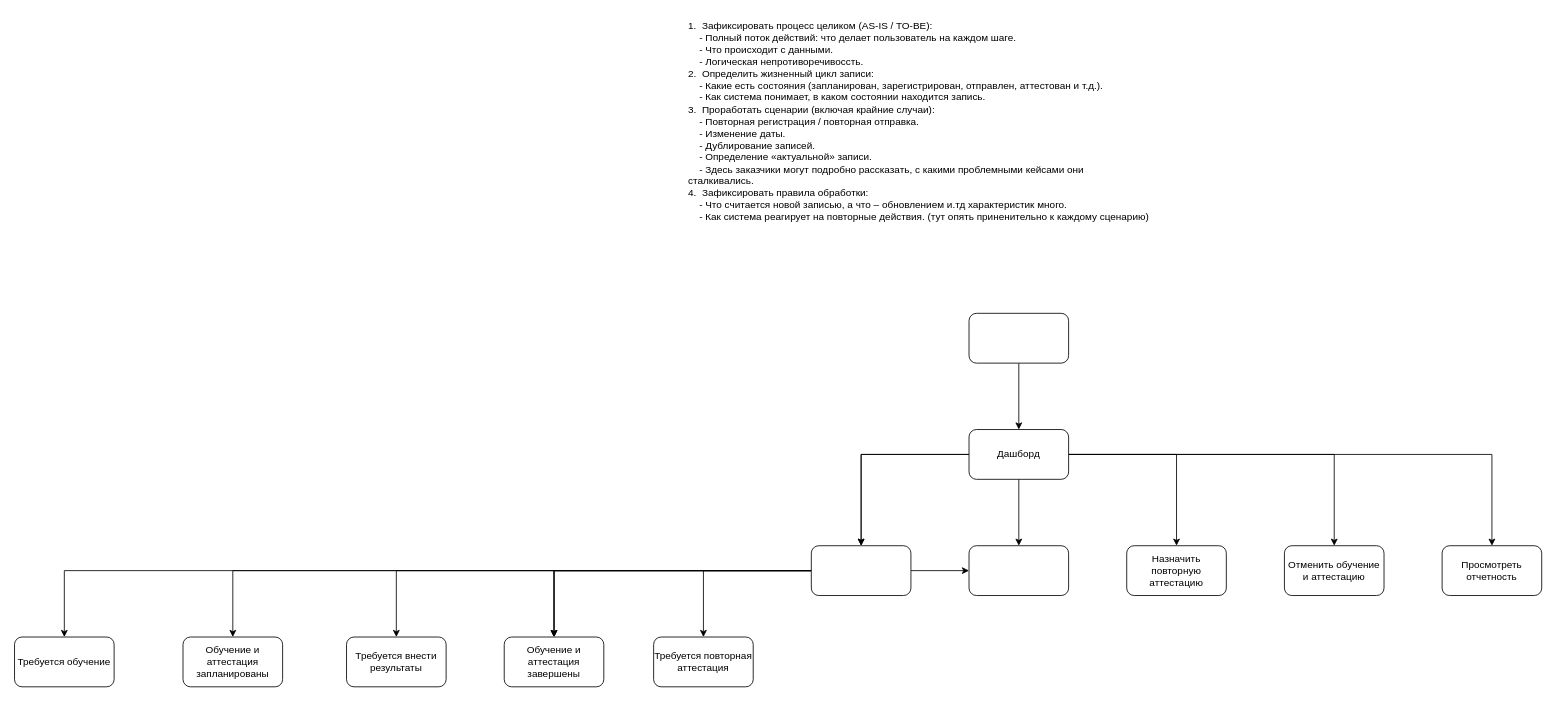
Some shapes in this 1556 by 701 pixel diagram are drawn without their labels. Each missing label, with the centre of its shape:
Внести данные по обучению и аттестации: the point at 1018,570
Запланировать обучение и аттестацию: the point at 860,570
Промышленная безопасность: the point at 1018,337
